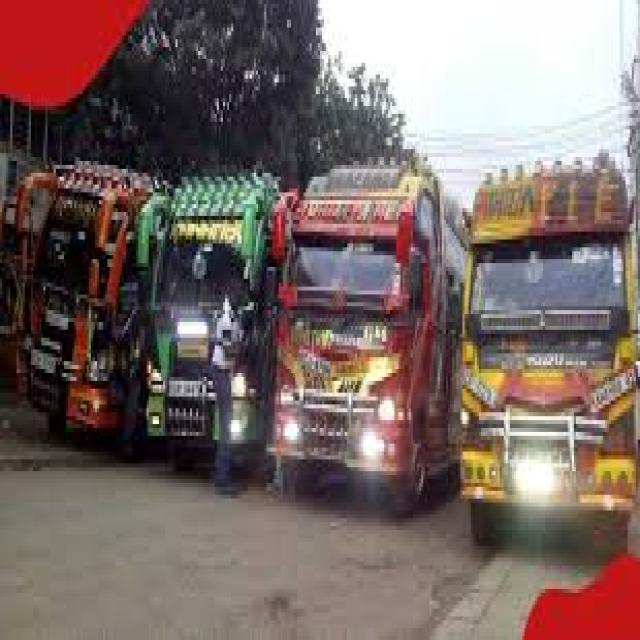bus: (456, 148, 640, 550), (271, 162, 457, 493), (0, 134, 148, 461)
